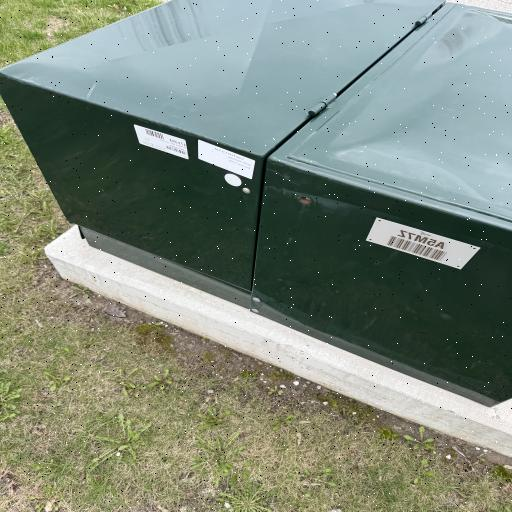Electrical Box: (2, 0, 510, 409)
